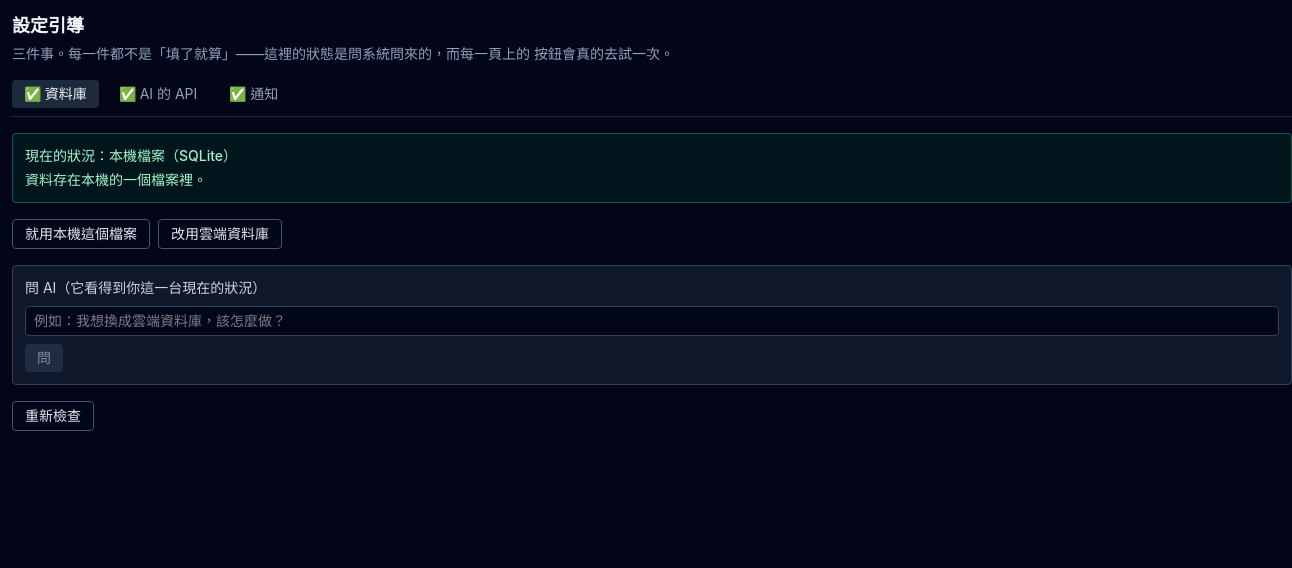
設定引導（分頁） › 選「改用雲端」就拿得到完整步驟 —— 那串步驟本來只有容器裡的人看得到
Click the button "改用雲端資料庫". click: click(220, 234)
box: x1=158 y1=219 x2=282 y2=249
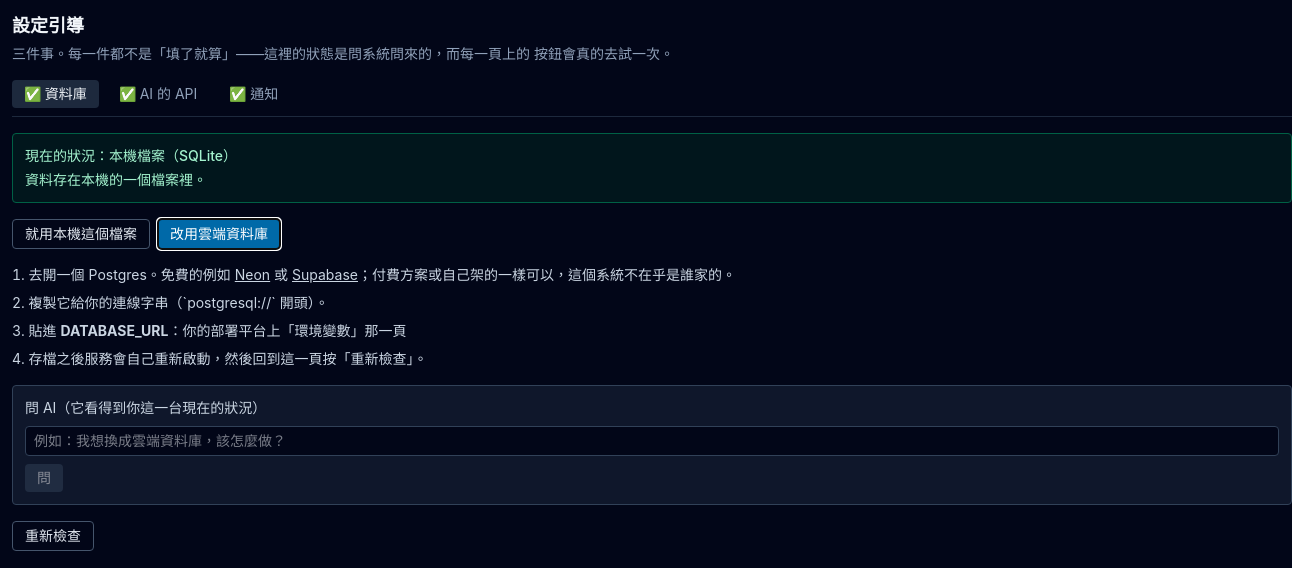
Expected: the list item "去開一個 Postgres" is shown, x1=29 y1=266 x2=231 y2=283
Expected: the list item "貼進 DATABASE_URL：你的部署平台上「環境變數」那一頁" is shown, x1=29 y1=322 x2=406 y2=339
